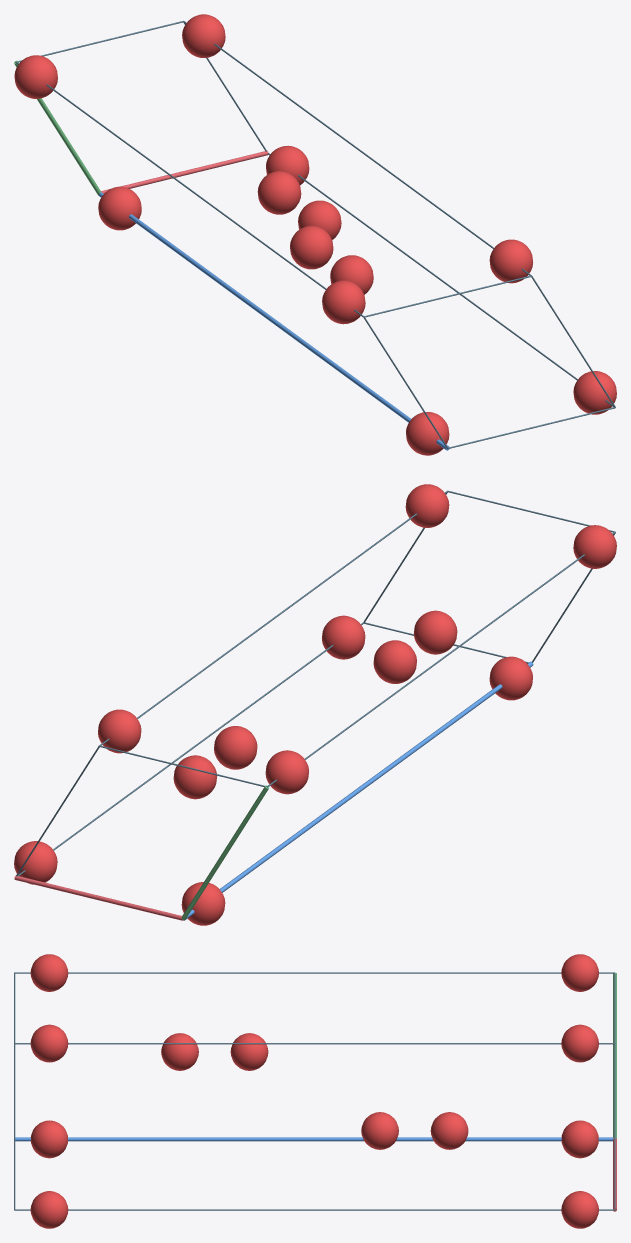
The model's file is chat-solid-oxygen-beta.glb.
The picture shows the model from 3 angles, top to bottom: view 1: azimuth 30°, elevation 25°; view 2: azimuth 150°, elevation 25°; view 3: azimuth 270°, elevation 25°; orthographic projection. The views are drawn at different scales.
Parts seen in each view (by area): view 1: O · O · 1 (×12), Ô mạng và các trục a, b, c; view 2: O · O · 1 (×12), Ô mạng và các trục a, b, c; view 3: O · O · 1 (×12), Ô mạng và các trục a, b, c.
Boxes of the visible parts, x1,y1,x2,y2 form: O · O · 1 (×12): (14,14,616,455); Ô mạng và các trục a, b, c: (14,20,615,450); O · O · 1 (×12): (14,484,616,925); Ô mạng và các trục a, b, c: (14,490,615,920); O · O · 1 (×12): (30,954,598,1228); Ô mạng và các trục a, b, c: (14,972,616,1211).
Bounding box in the file's own units: 4.88 × 3.09 × 10.21.
